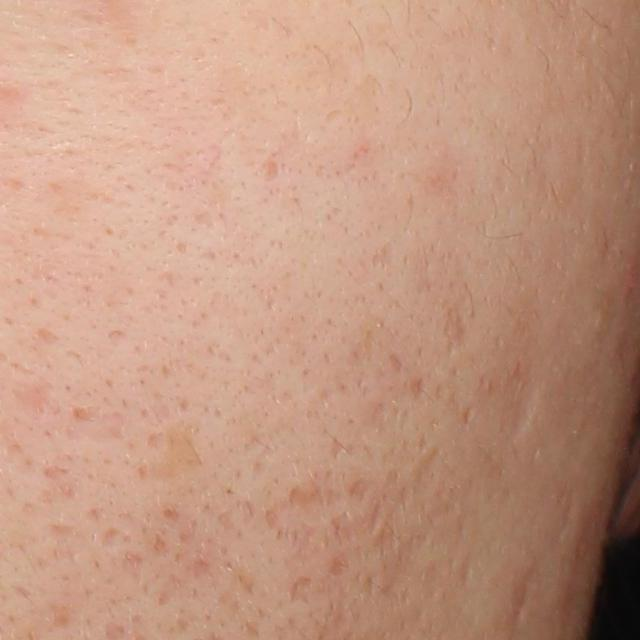atrophic_scar: (135, 426, 213, 485), (375, 469, 416, 558), (503, 377, 545, 445), (505, 558, 539, 638), (413, 446, 446, 513), (14, 376, 59, 419), (441, 305, 468, 358), (289, 485, 347, 509), (97, 520, 135, 552), (121, 549, 146, 590), (325, 550, 352, 578), (289, 574, 313, 605), (255, 159, 282, 184), (72, 404, 104, 425), (349, 475, 371, 503), (369, 497, 385, 535), (328, 436, 348, 462), (460, 402, 479, 427), (408, 378, 426, 401), (263, 509, 280, 533), (388, 353, 405, 373)
